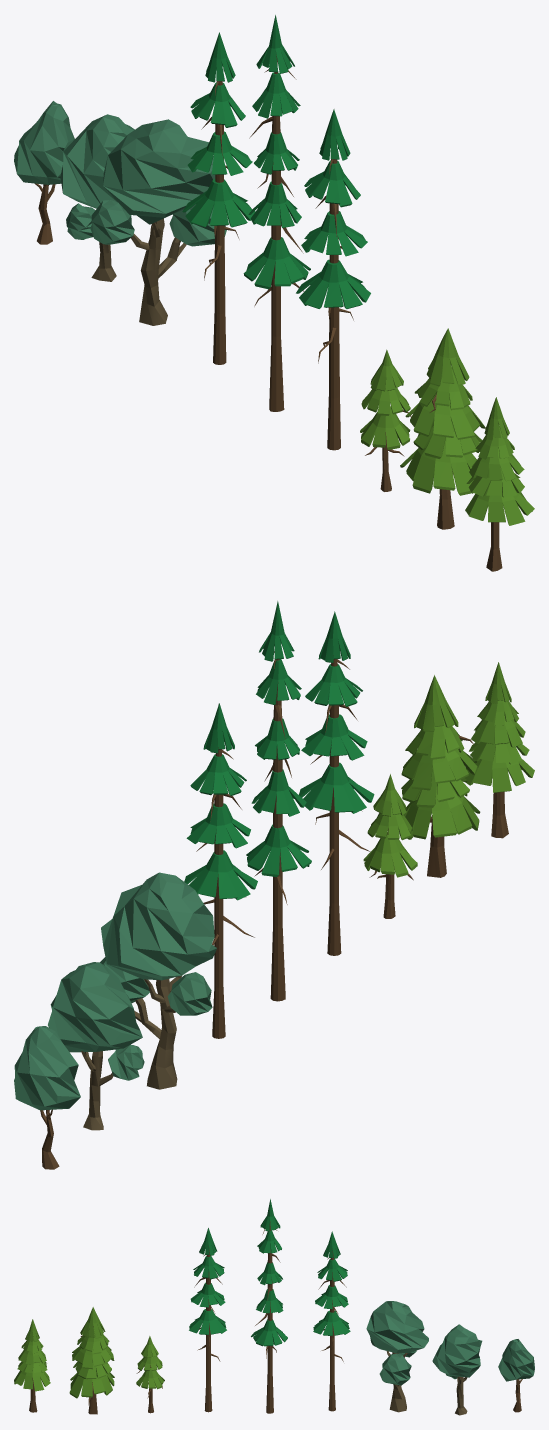
The model's file is Trees Package.fbx.
3 views of the same model, one above another, from view 1: azimuth 30°, elevation 25°; view 2: azimuth 150°, elevation 25°; view 3: azimuth 270°, elevation 25° (orthographic). The views are drawn at different scales.
Visible parts, largest first — view 1: Tree.008, Tree.006, Tree.002, Tree.005, Tree.007, Tree.004, Tree, Tree.009, Tree.003; view 2: Tree.008, Tree.002, Tree.006, Tree.005, Tree.004, Tree.007, Tree, Tree.009, Tree.003; view 3: Tree.008, Tree.002, Tree.006, Tree.005, Tree.007, Tree.004, Tree, Tree.009, Tree.003.
Part boxes in pixels (bbox=[...]): Tree.008: bbox=[90, 119, 226, 325]; Tree.006: bbox=[243, 15, 310, 411]; Tree.002: bbox=[400, 328, 485, 529]; Tree.005: bbox=[296, 109, 370, 450]; Tree.007: bbox=[182, 32, 255, 364]; Tree.004: bbox=[60, 114, 134, 281]; Tree: bbox=[465, 397, 534, 571]; Tree.009: bbox=[14, 101, 74, 244]; Tree.003: bbox=[360, 349, 411, 491]; Tree.008: bbox=[100, 872, 216, 1089]; Tree.002: bbox=[401, 675, 480, 877]; Tree.006: bbox=[246, 601, 311, 1001]; Tree.005: bbox=[299, 611, 374, 955]; Tree.004: bbox=[48, 962, 144, 1130]; Tree.007: bbox=[184, 703, 257, 1038]; Tree: bbox=[464, 662, 534, 838]; Tree.009: bbox=[14, 1026, 80, 1169]; Tree.003: bbox=[363, 774, 417, 918]; Tree.008: bbox=[366, 1301, 428, 1412]; Tree.002: bbox=[69, 1307, 114, 1414]; Tree.006: bbox=[251, 1199, 287, 1413]; Tree.005: bbox=[189, 1228, 226, 1412]; Tree.007: bbox=[313, 1231, 350, 1411]; Tree.004: bbox=[432, 1324, 482, 1415]; Tree: bbox=[14, 1319, 50, 1412]; Tree.009: bbox=[498, 1339, 534, 1412]; Tree.003: bbox=[136, 1336, 164, 1413].
Size of the model in its own units: 87 by 270 by 597.
